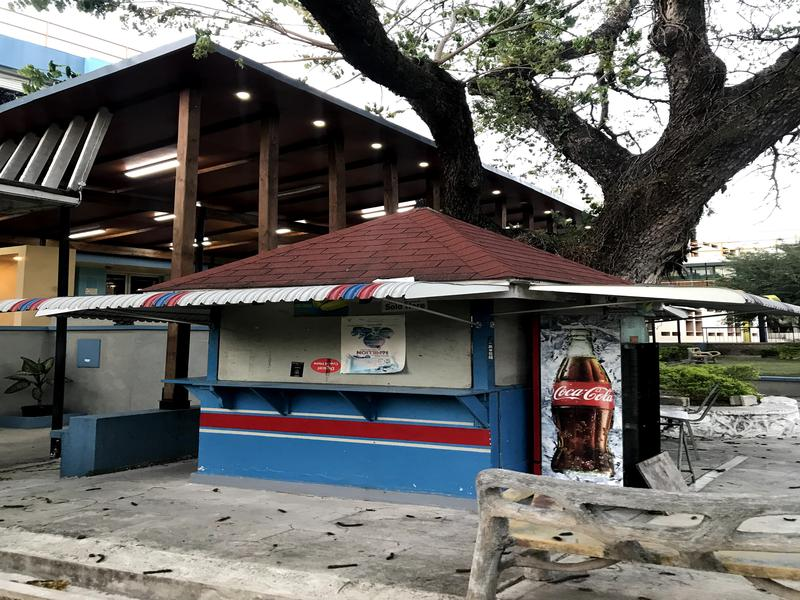18.0051667_-76.74944412_librarystall: (148, 192, 685, 516)
